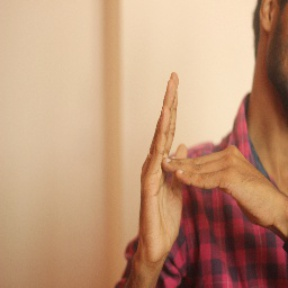Z: (133, 64, 283, 263)
